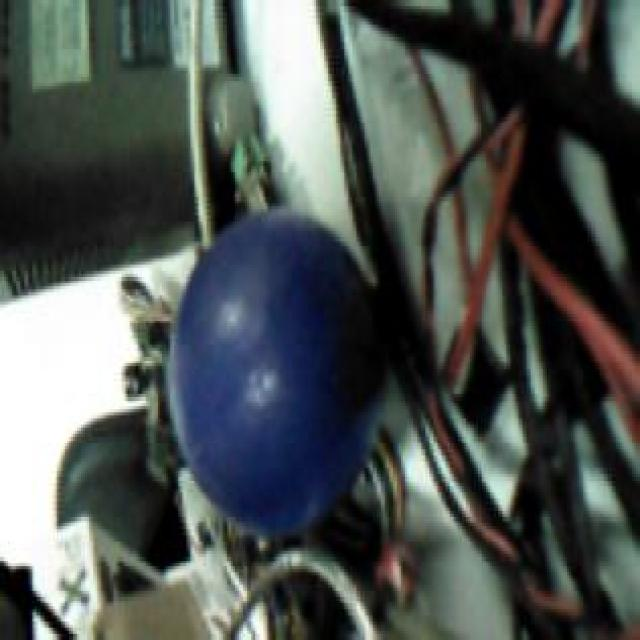BallPurple: (168, 212, 386, 538)
